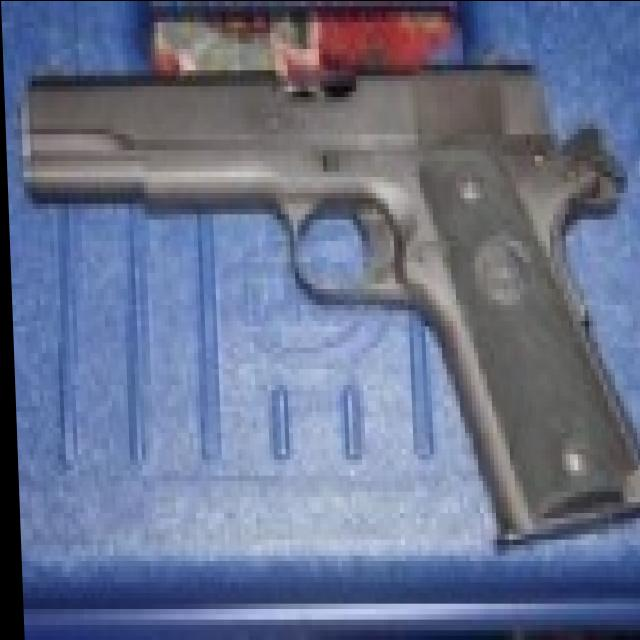handgun: (26, 58, 640, 560)
